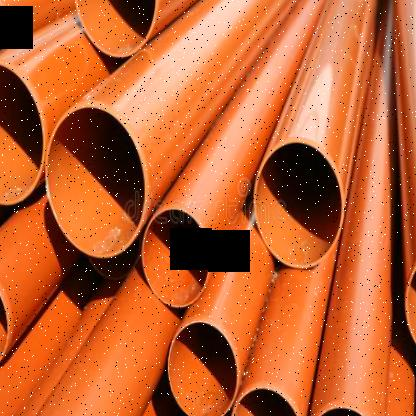pipe: (46, 106, 145, 258), (255, 140, 343, 268), (142, 209, 210, 308), (166, 320, 236, 416), (0, 60, 45, 203), (73, 0, 158, 57), (231, 381, 304, 416), (404, 249, 416, 360), (0, 276, 12, 374), (0, 0, 12, 61), (312, 404, 370, 416)
